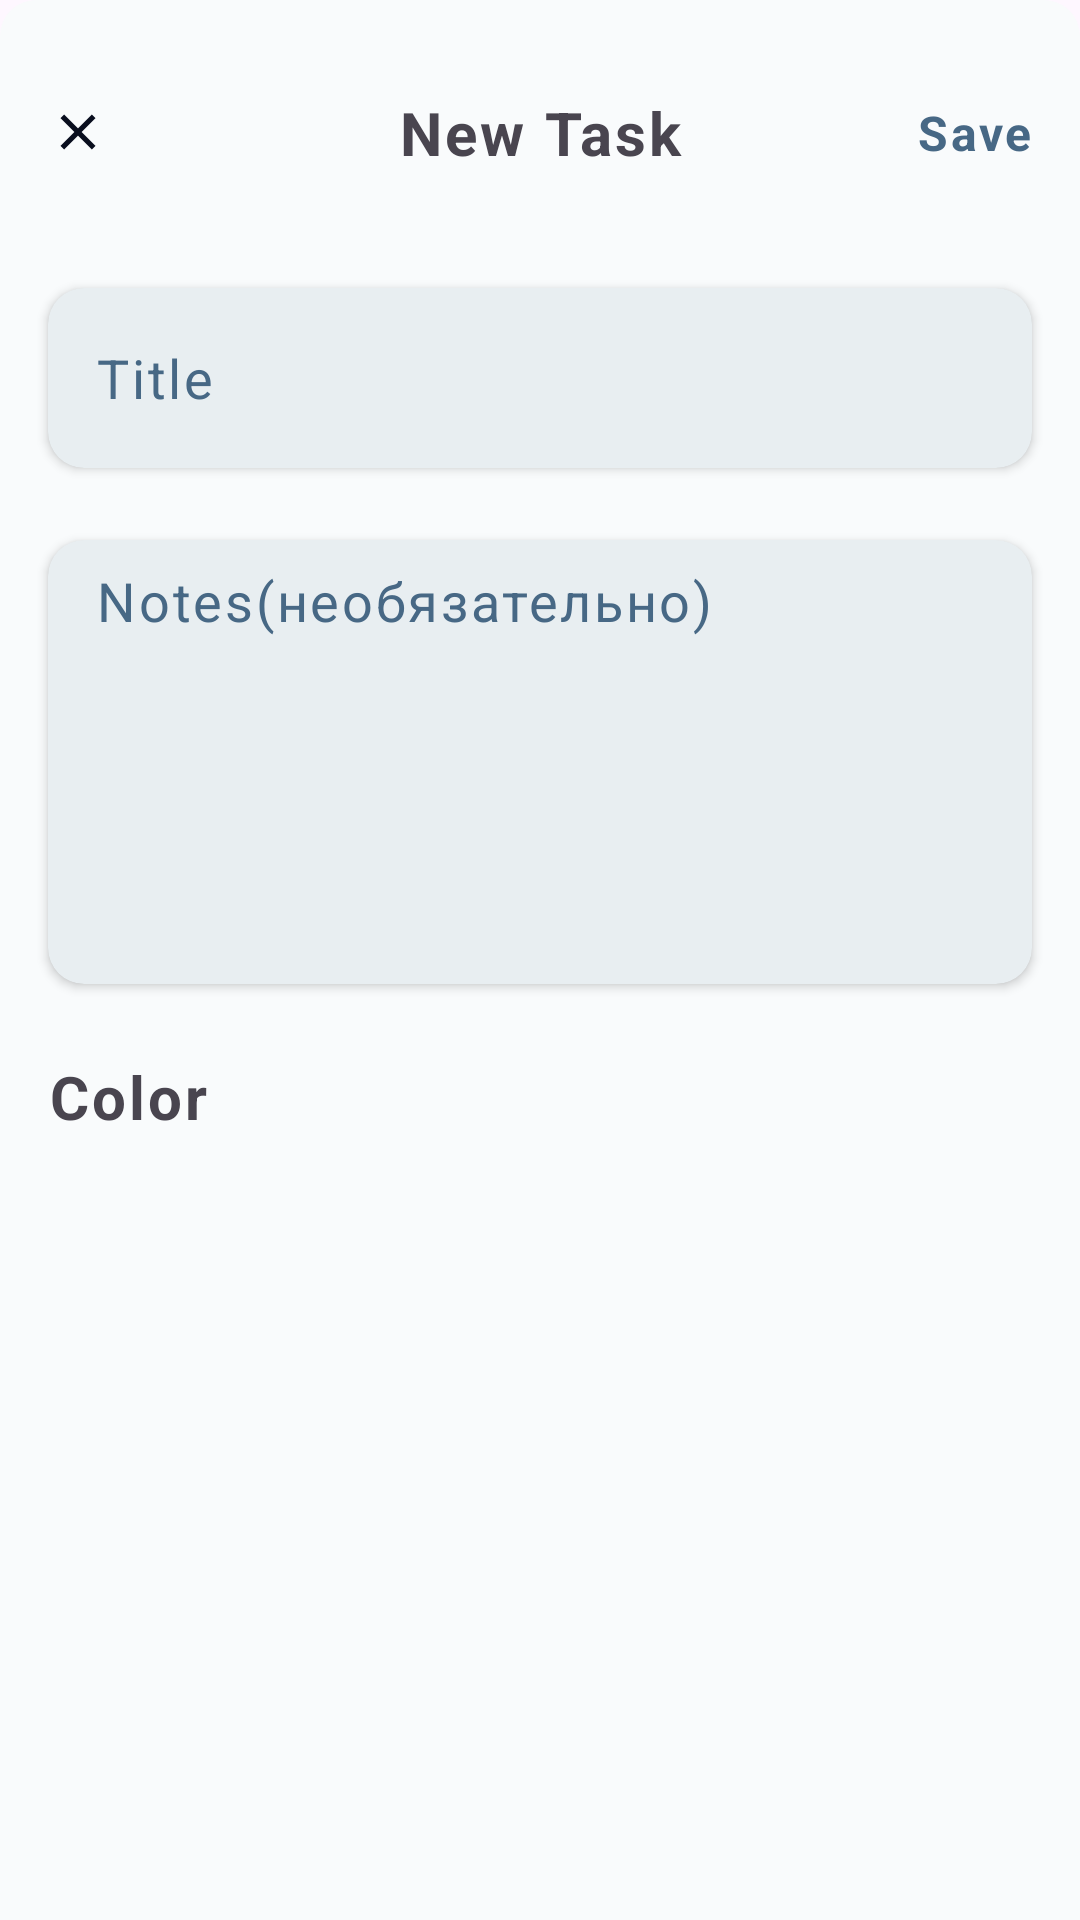

Where icons sit on this 1080px x 1920px app screen, as [x1,y1,x2,y2]:
close: [60,114,96,150]
